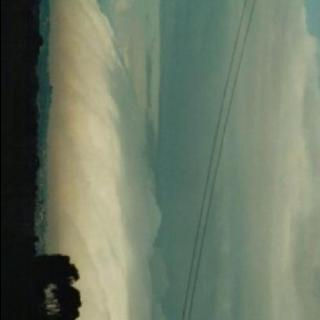Cumulonimbus: (43, 1, 320, 320)
